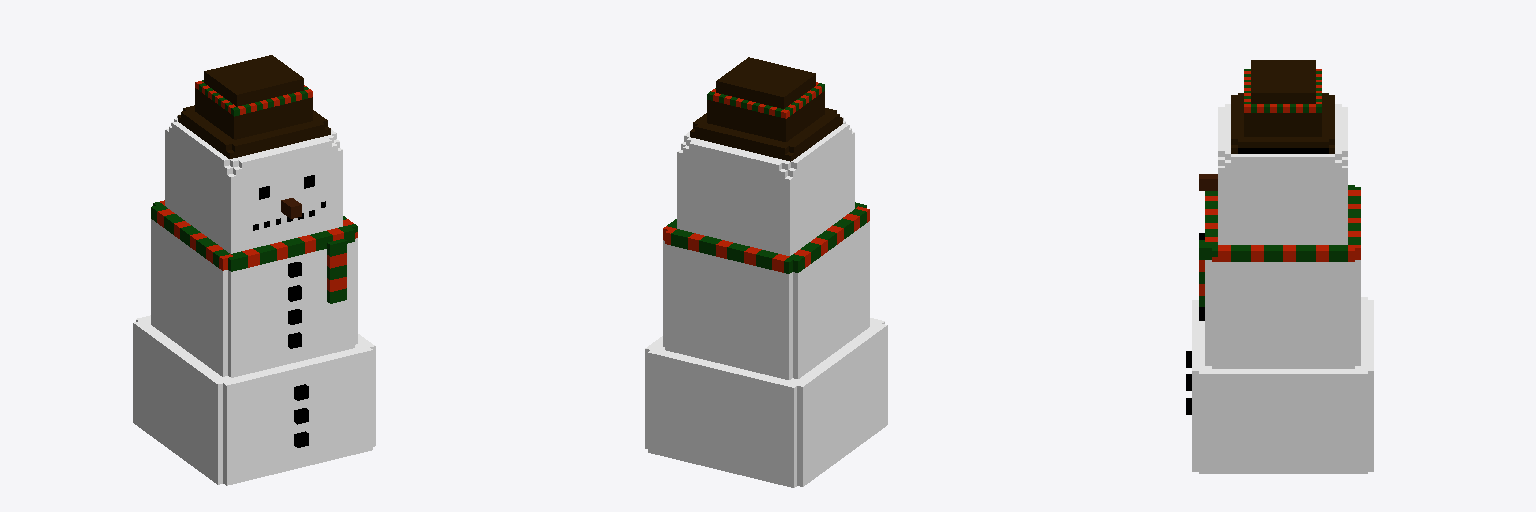
The picture shows the model from 3 angles: view 1: azimuth 30°, elevation 25°; view 2: azimuth 150°, elevation 25°; view 3: azimuth 270°, elevation 25°; orthographic projection.
Visible parts, largest first — view 1: monstreSnowman; view 2: monstreSnowman; view 3: monstreSnowman.
Part boxes in pixels (x1,y1,x2,y2): monstreSnowman: (133,55,375,485); monstreSnowman: (645,57,887,487); monstreSnowman: (1186,60,1373,473).
Size of the model in its own units: 28 by 61 by 29.
1 materials, 1 textured.